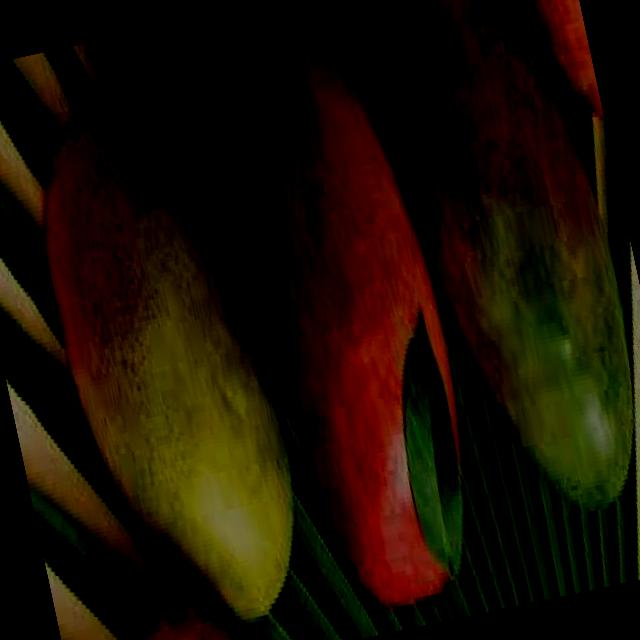Mango: (14, 80, 321, 640), (217, 16, 498, 624), (366, 0, 640, 539), (503, 0, 606, 138), (113, 585, 247, 640)
